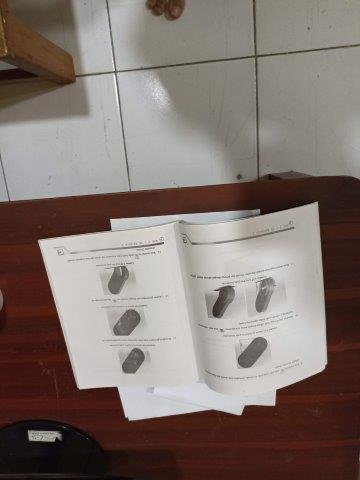kertas: (38, 200, 327, 420)
